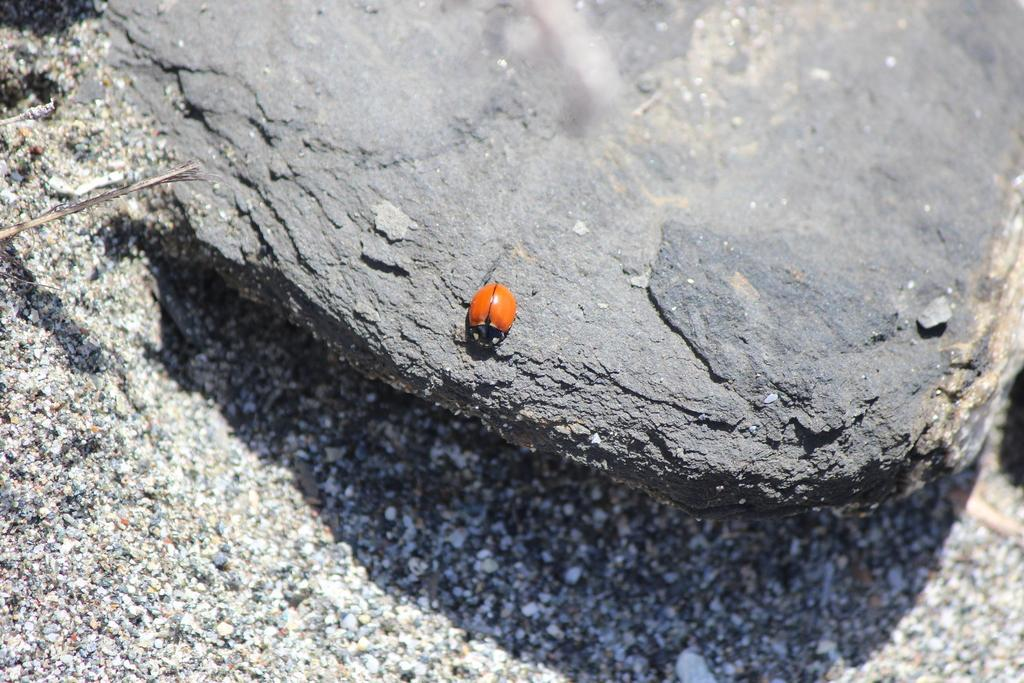ladybug: (461, 277, 525, 363)
